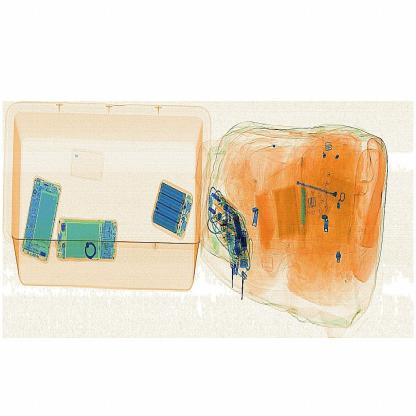pliers: (296, 180, 314, 245)
